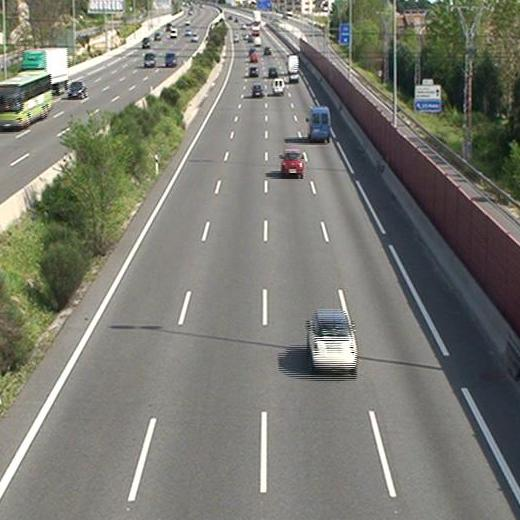car: (306, 311, 358, 374), (281, 151, 305, 177), (252, 84, 263, 98), (287, 71, 300, 82), (267, 66, 278, 78), (249, 65, 260, 77), (249, 52, 259, 63)
van: (308, 107, 331, 141), (271, 78, 286, 96), (287, 54, 300, 73)
